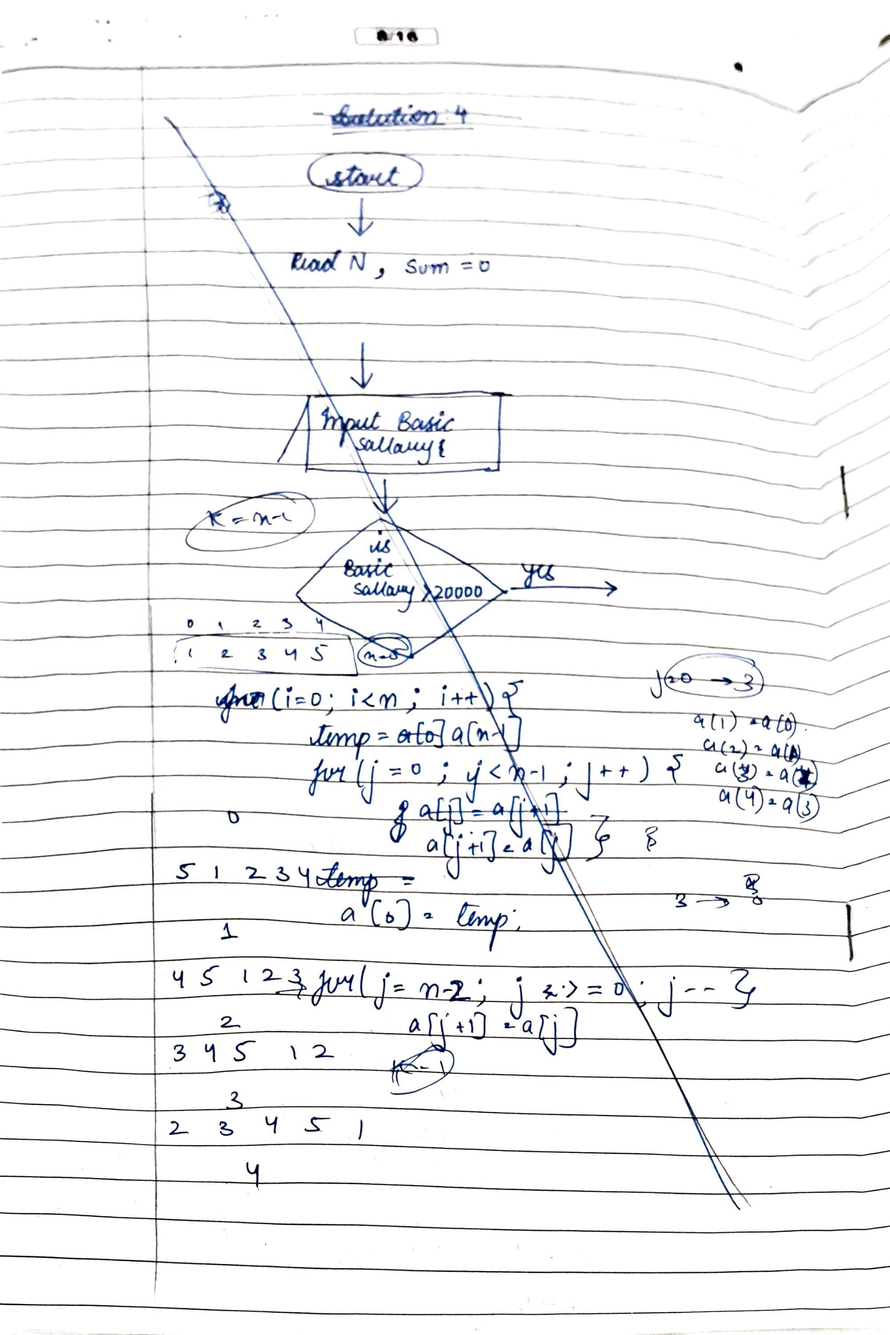cuttings: (147, 98, 829, 1223)
